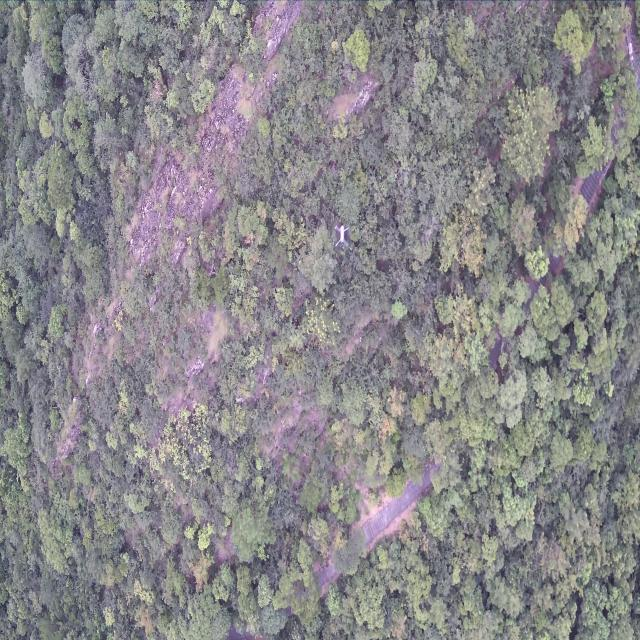UAV: (335, 224, 349, 248)
